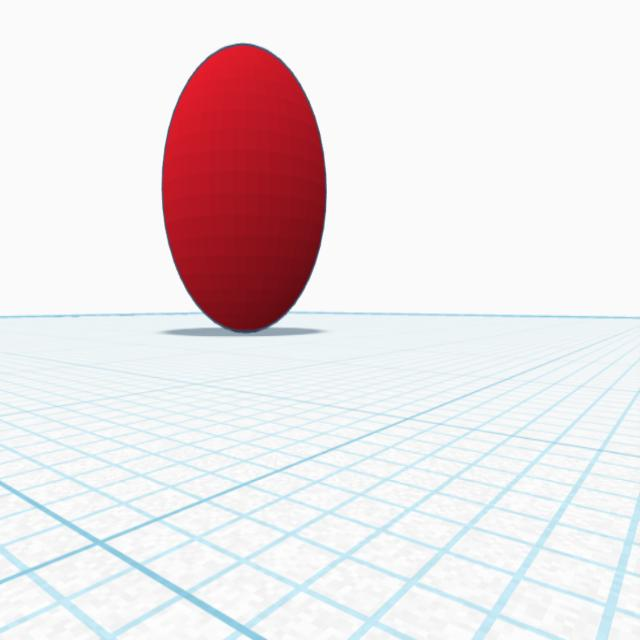sphere: (156, 37, 330, 340)
